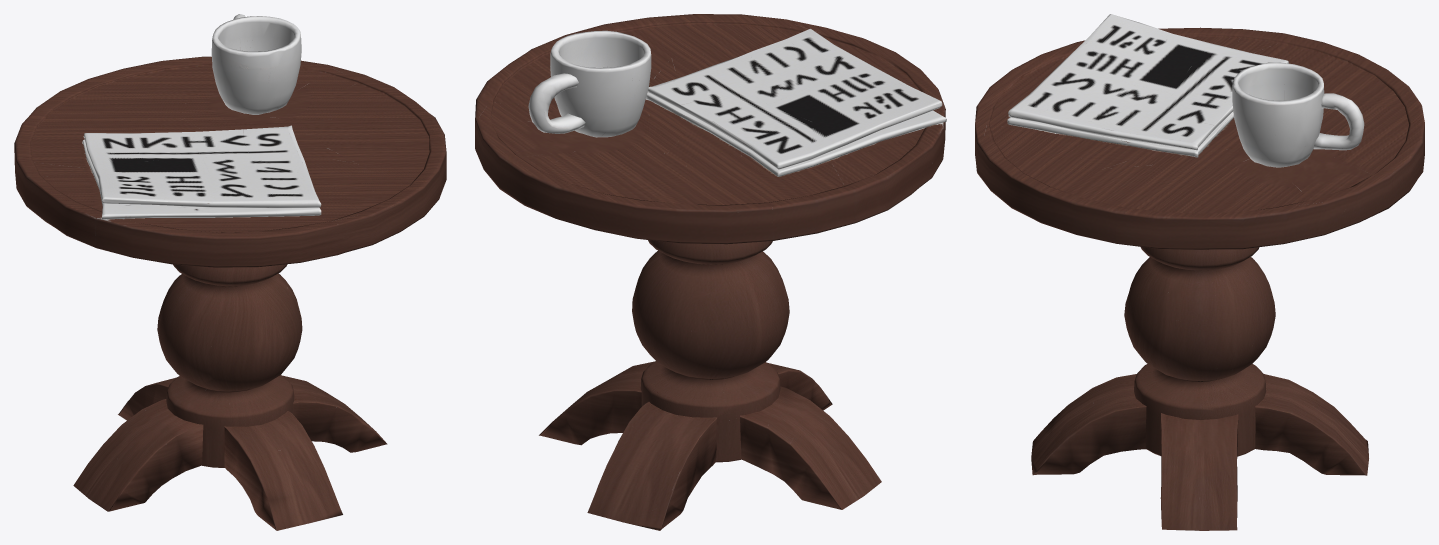
File: side-table.glb
3 views of the same model, side by side, from view 1: azimuth 30°, elevation 25°; view 2: azimuth 150°, elevation 25°; view 3: azimuth 270°, elevation 25° (orthographic). The views are drawn at different scales.
Bounding box in the file's own units: 1 × 1 × 1.
1 material, 1 textured.
